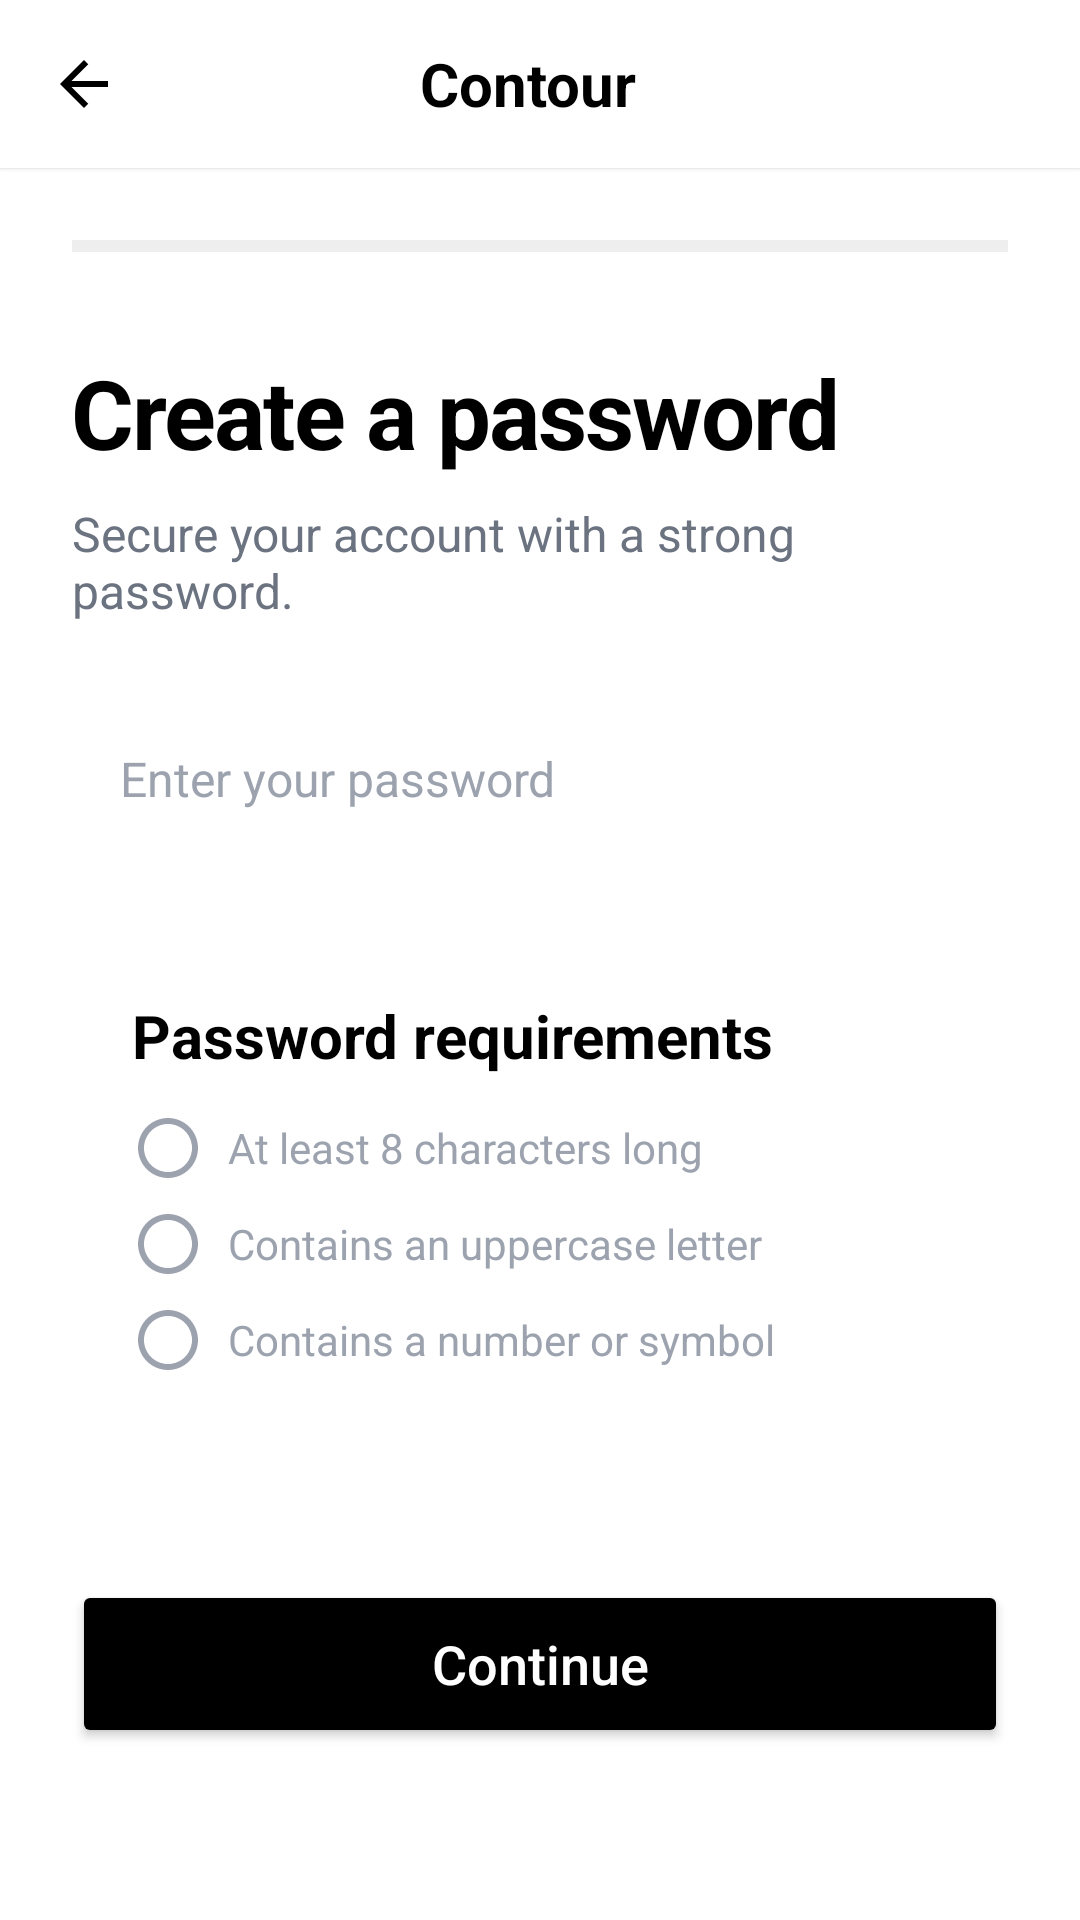

Where icons sit on this 1080 × 1920 app screen, as (x1, y1, x2, y2):
Go back: (60, 60, 108, 108)
radio unchecked: (138, 1118, 198, 1178), (138, 1214, 198, 1274), (138, 1310, 198, 1370)
